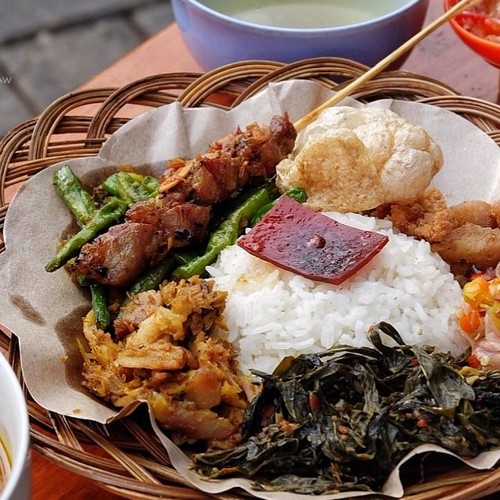nasi campur bali: (73, 163, 475, 434)
